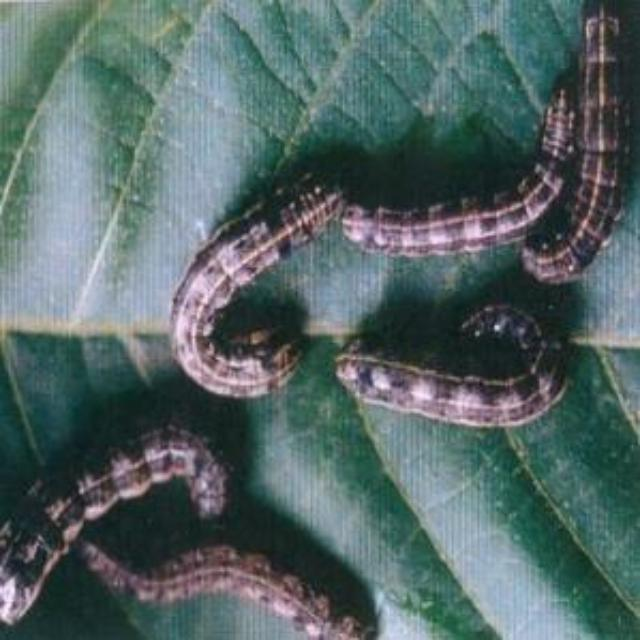Tobacco cutworm: (140, 136, 356, 430), (0, 412, 244, 639), (314, 74, 578, 278), (330, 294, 614, 476), (472, 0, 640, 288), (71, 515, 392, 640)
